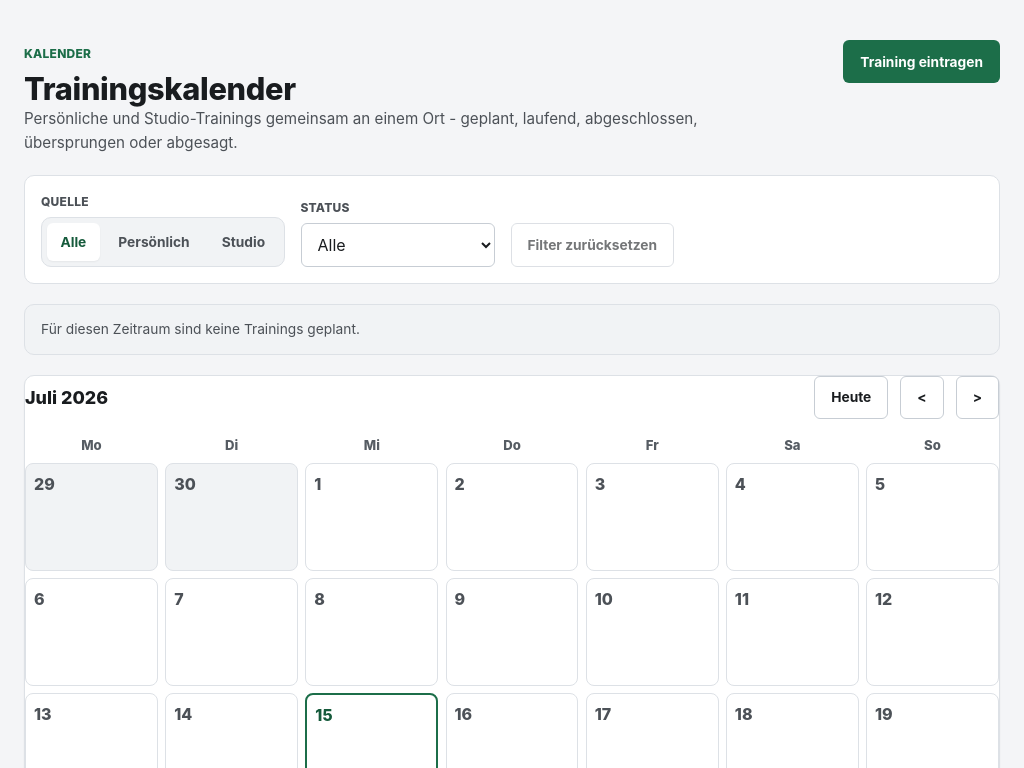
Scenario: CalendarView › a stale, superseded response never overwrites more recent data (request race guard)
Step 1. Click the button named "Nächster Monat" → (977, 397), box [956, 376, 999, 419]
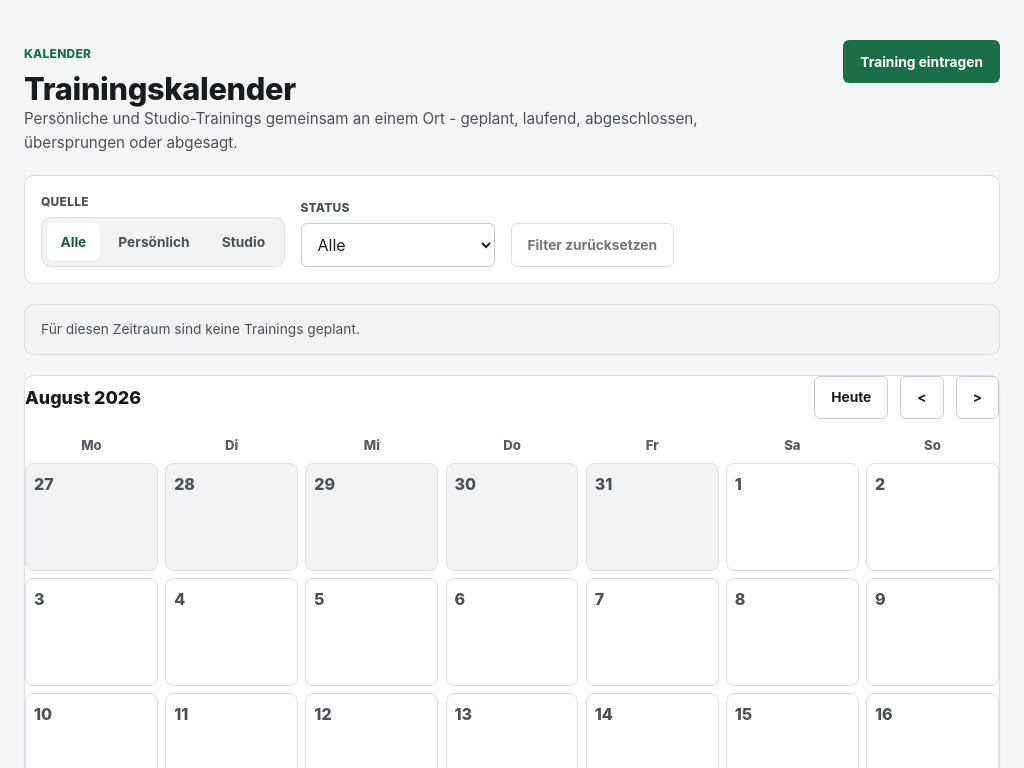
Step 2. Click the button named "Nächster Monat" → (977, 397), box [956, 376, 999, 419]
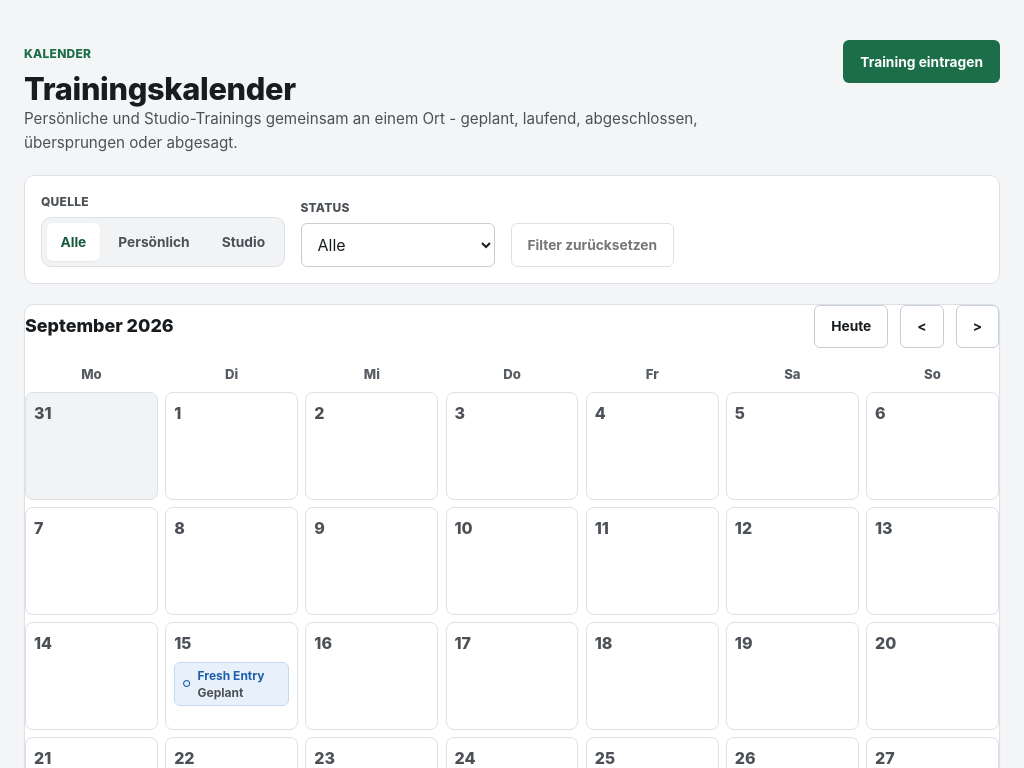
Now the text "Fresh Entry" is shown, box [198, 668, 264, 683]
